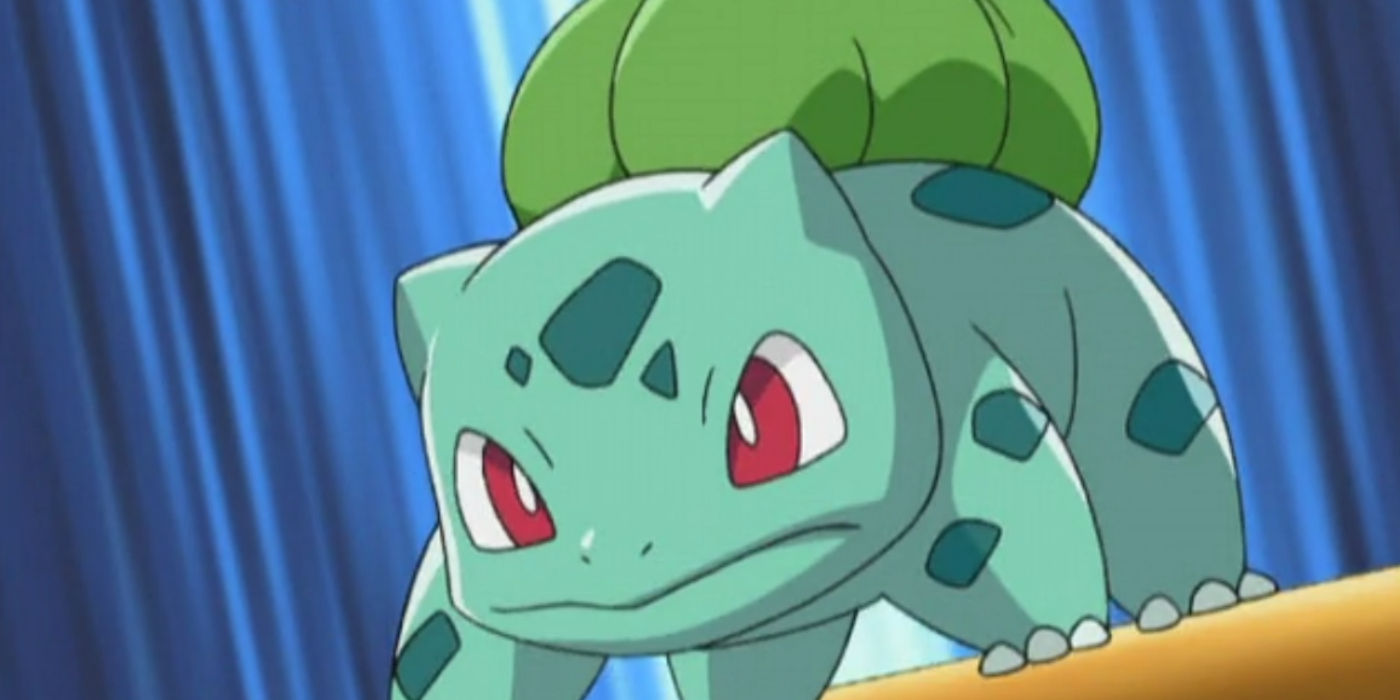bulbasaur: (238, 9, 1305, 700)
